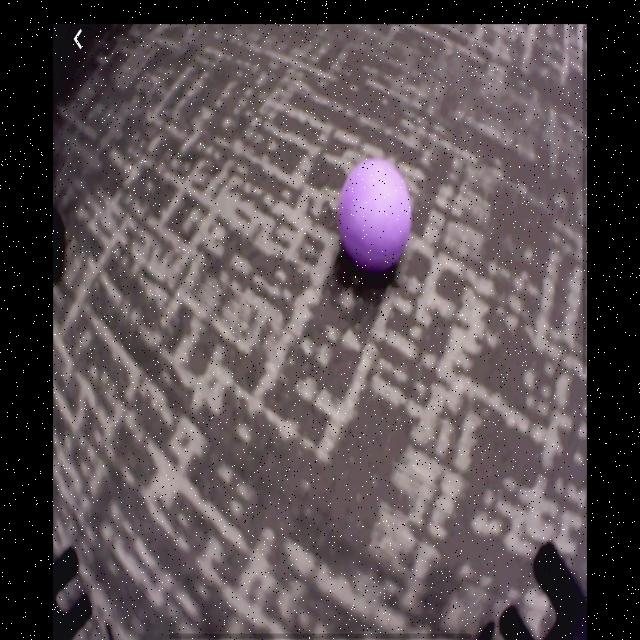ball: (338, 160, 412, 274)
